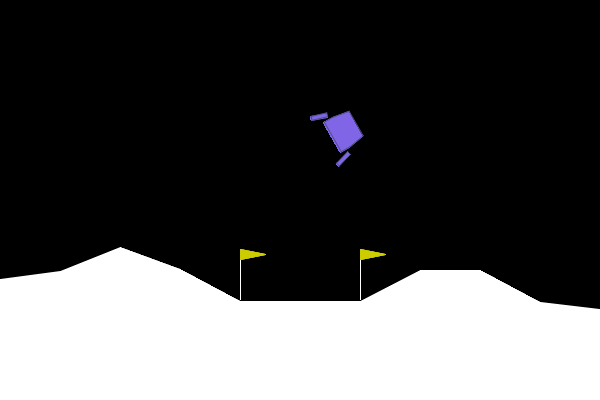lander: (308, 97, 372, 169)
